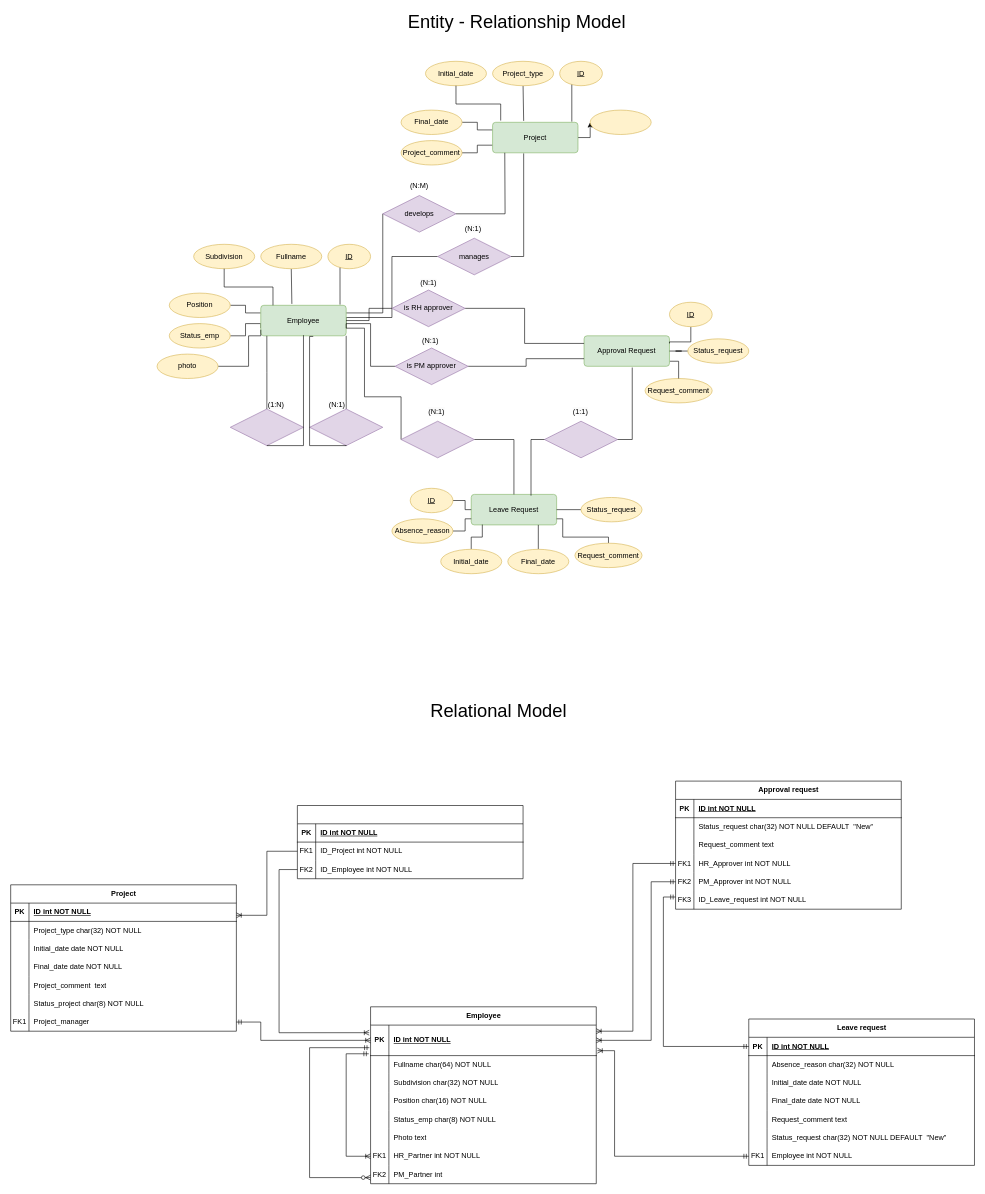
This 985x1194 diagram has some shape labels left out. Each missing label, with the box of its shape:
corresponds: (544, 421, 618, 458)
has PM partner: (309, 408, 383, 446)
has RH partner: (230, 408, 303, 446)
People Project: (297, 805, 523, 879)
requests: (400, 421, 474, 458)
Status_project: (590, 109, 651, 135)
